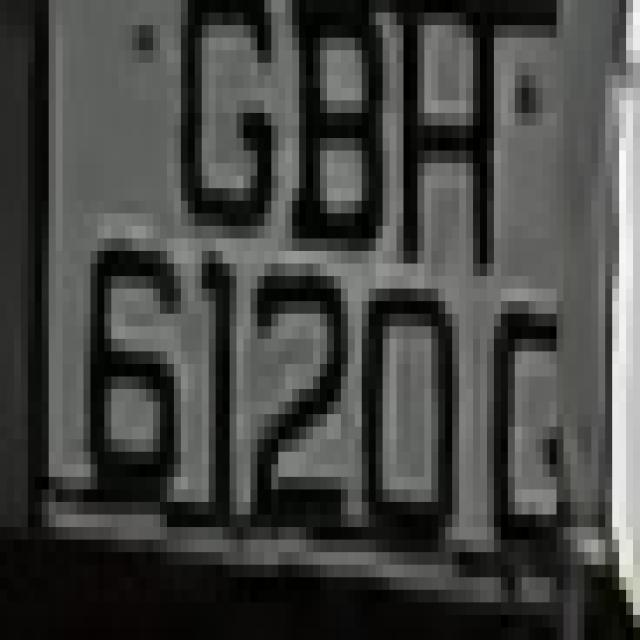0: (348, 264, 466, 564)
1: (174, 226, 236, 565)
2: (243, 213, 348, 578)
6: (69, 176, 181, 514)
B: (285, 0, 397, 301)
G: (480, 276, 598, 590), (167, 13, 292, 276)
H: (382, 0, 501, 276)
